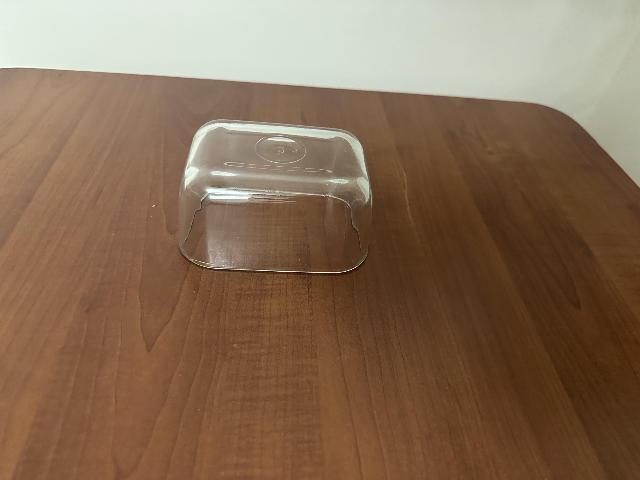Cam: (179, 113, 378, 276)
